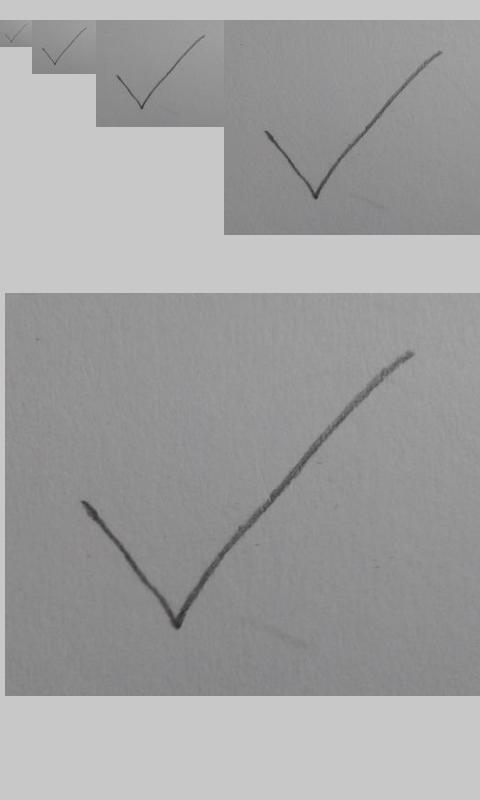check_box: (84, 351, 417, 631), (265, 51, 440, 200), (116, 36, 204, 110), (42, 28, 86, 65), (4, 24, 27, 43)
